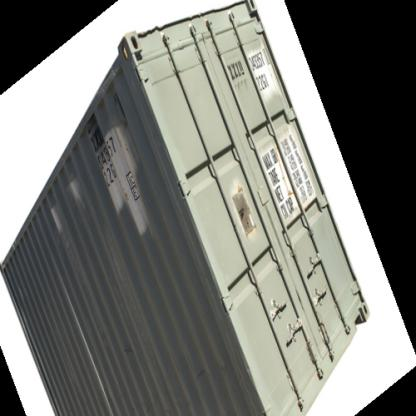Damage: (95, 120, 163, 235), (233, 186, 262, 246), (65, 172, 94, 207), (44, 197, 66, 237), (115, 340, 139, 356), (190, 364, 211, 382)
